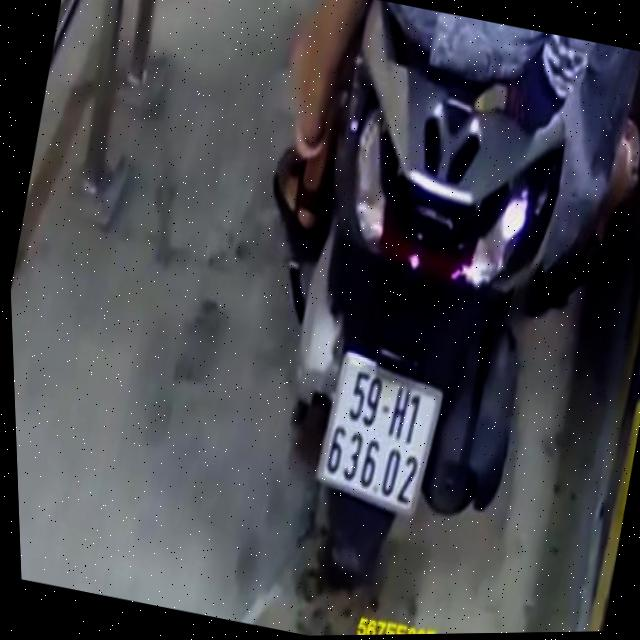motorcycle: (195, 0, 627, 630)
plate: (300, 341, 459, 522)
